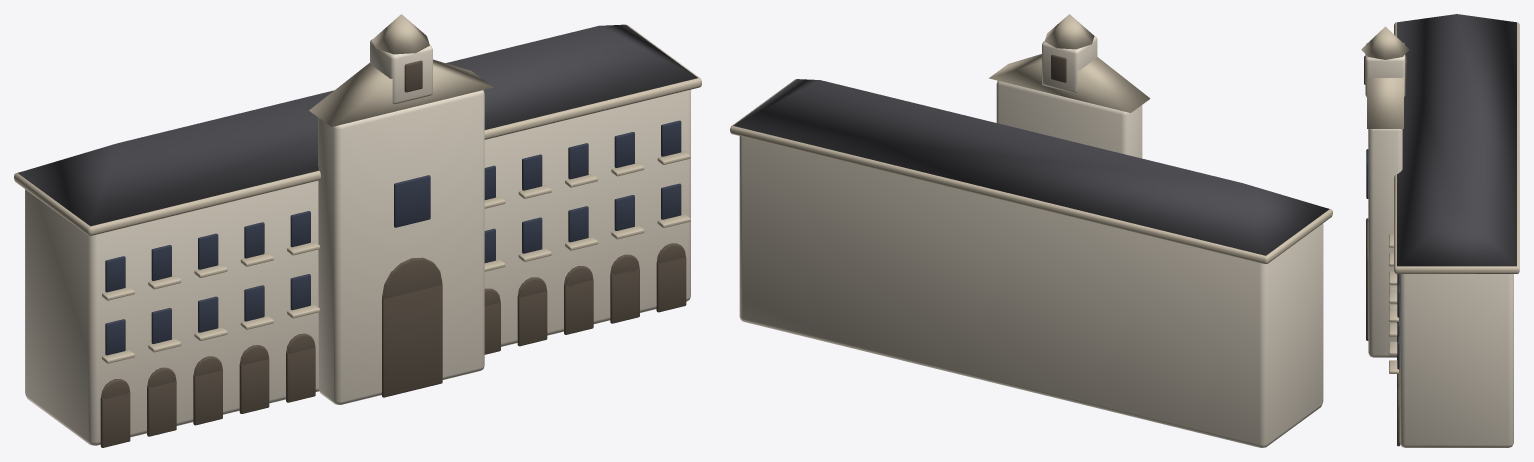
Rendered from arcada.glb.
3 renders of one model, left to right at view 1: azimuth 30°, elevation 25°; view 2: azimuth 150°, elevation 25°; view 3: azimuth 270°, elevation 25°, orthographic. The views are drawn at different scales.
Parts seen in each view (by area): view 1: arcada; view 2: arcada; view 3: arcada.
Part boxes in pixels (left/top/right/bottom): arcada: left=14, top=14, right=701, bottom=447; arcada: left=730, top=14, right=1332, bottom=447; arcada: left=1361, top=14, right=1519, bottom=447.
Size of the model in its own units: 20.4 by 11.7 by 5.55.
